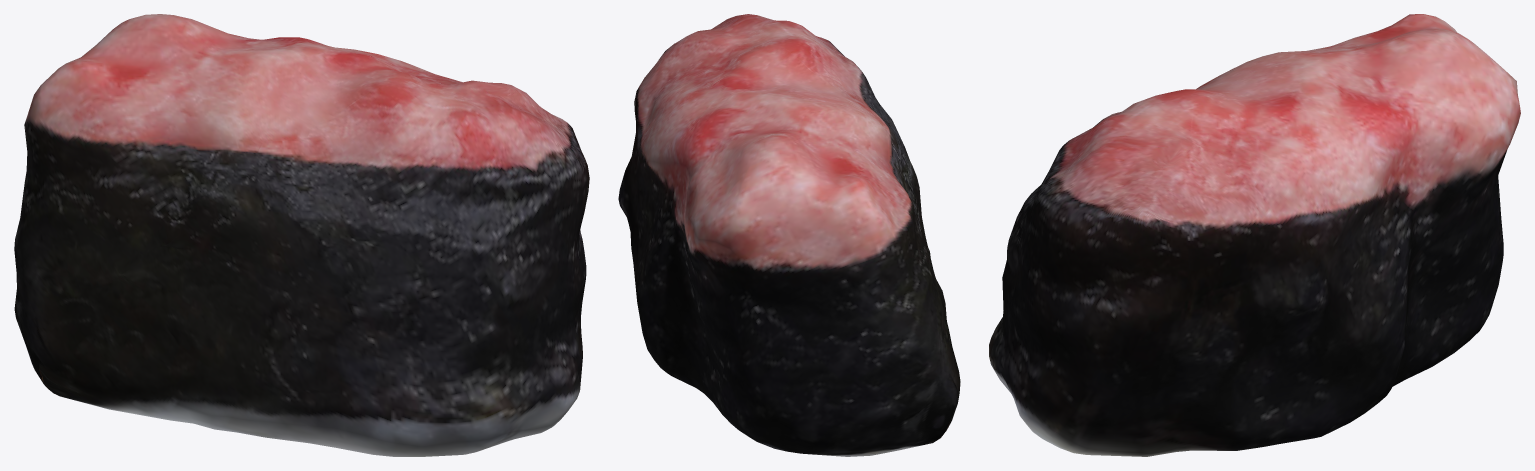
The model's file is negitoro.fbx.
3 renders of one model, left to right at view 1: azimuth 30°, elevation 25°; view 2: azimuth 150°, elevation 25°; view 3: azimuth 270°, elevation 25°, orthographic. The views are drawn at different scales.
Visible parts, largest first — view 1: negitoro; view 2: negitoro; view 3: negitoro.
Part boxes in pixels (box(x1,y1,x2,y2)): negitoro: box(14, 14, 589, 456); negitoro: box(618, 14, 960, 456); negitoro: box(989, 14, 1520, 456).
Bounding box in the file's own units: 4.52 × 3.27 × 4.89.
Materials: 1 (1 with a texture image).
